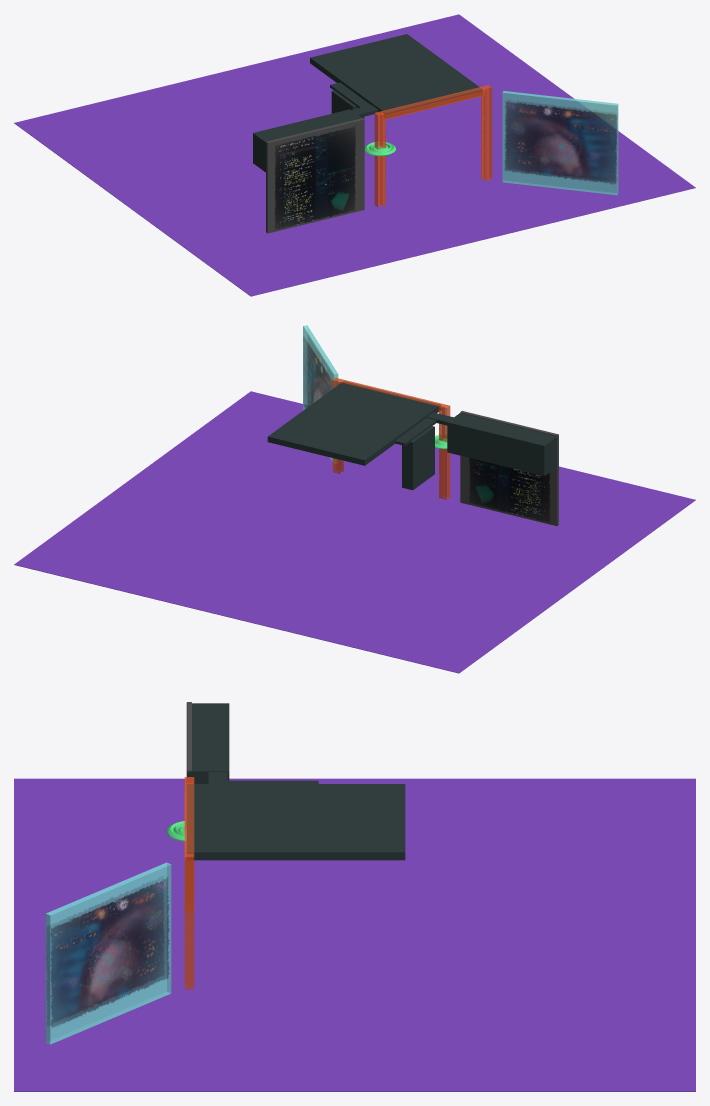
The model's file is LEATR IDE.glb.
3 renders of one model, top to bottom at view 1: azimuth 30°, elevation 25°; view 2: azimuth 150°, elevation 25°; view 3: azimuth 270°, elevation 25°, orthographic. The views are drawn at different scales.
Visible parts, largest first — view 1: Wafer, Built Output, IDE Interface, Compiler Environment Top Side, Compiler, IDE Tool Modules; view 2: Wafer, Compiler Environment Top Side, IDE Interface, IDE Tool Modules, Built Output, Bridge Method and eExtensions, Compiler; view 3: Wafer, Built Output, Compiler Environment Top Side, IDE Tool Modules, Compiler.
Boxes of the visible parts, x1,y1,x2,y2 form: Wafer: (14, 14, 695, 296); Built Output: (502, 91, 618, 195); IDE Interface: (266, 118, 364, 233); Compiler Environment Top Side: (310, 34, 482, 118); Compiler: (374, 85, 492, 207); IDE Tool Modules: (253, 109, 361, 172); Wafer: (14, 391, 695, 673); Compiler Environment Top Side: (267, 381, 440, 465); IDE Interface: (460, 411, 558, 526); IDE Tool Modules: (447, 413, 557, 475); Built Output: (303, 325, 338, 463); Bridge Method and eExtensions: (402, 426, 434, 490); Compiler: (332, 378, 450, 499); Wafer: (14, 778, 695, 1091); Built Output: (45, 862, 171, 1044); Compiler Environment Top Side: (187, 784, 405, 860); IDE Tool Modules: (187, 703, 229, 783); Compiler: (184, 777, 194, 989).
Size of the model in its own units: 7.9 by 1.57 by 7.28.
Materials: 10 (2 with a texture image).
